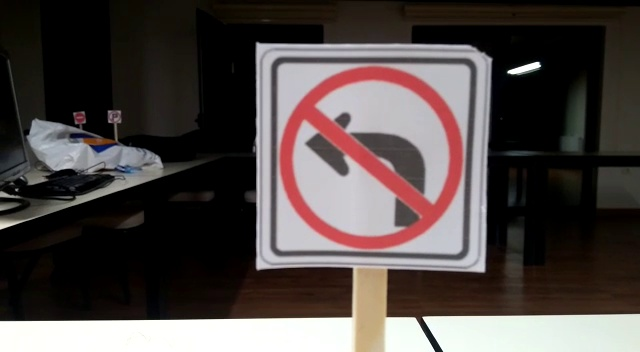sola_donulmez: (252, 47, 484, 268)
